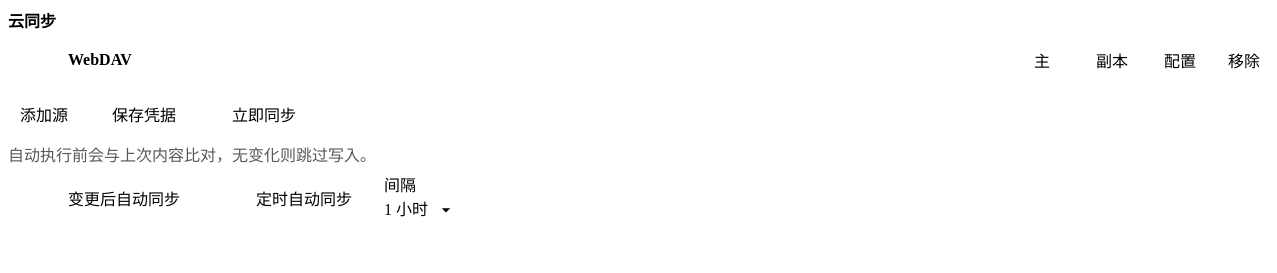
Test: CloudCard（多源） › ⑩保存凭据：saveSources 整列表 + 逐启用源 saveCred(id, draft)
Click the button with class "creds-save" at coordinates (144, 114), box [88,94,200,134]
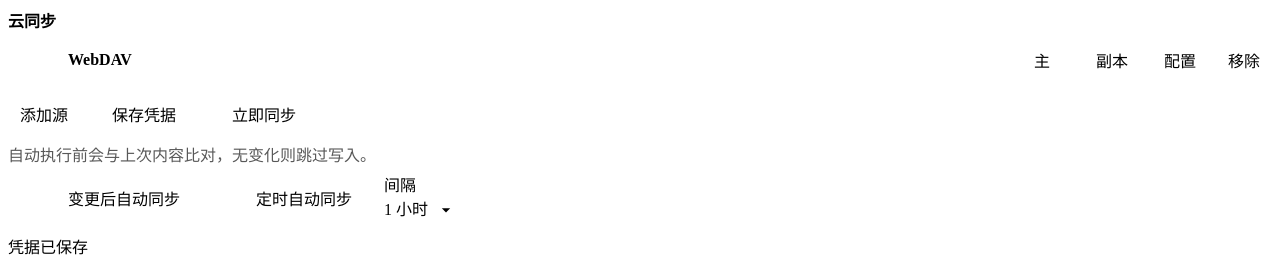
Now the text "凭据已保存" is shown, box [8,239,88,256]
